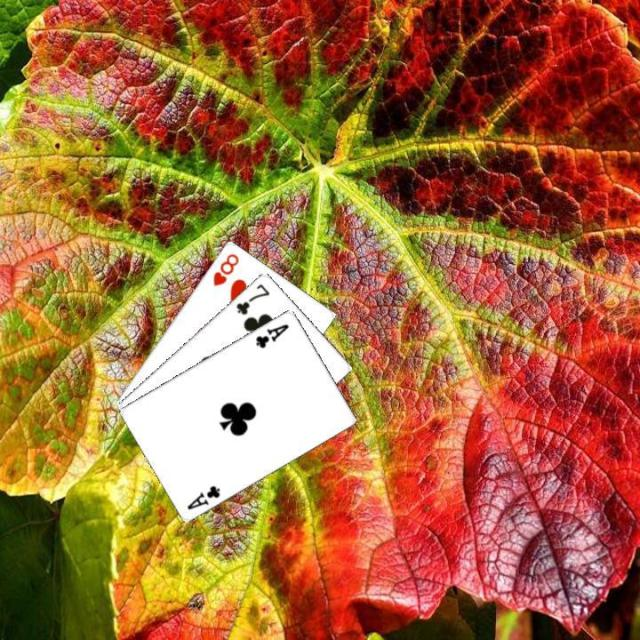7C: (232, 279, 271, 317)
8H: (209, 249, 241, 287)
AC: (183, 481, 222, 511), (252, 320, 290, 350)
